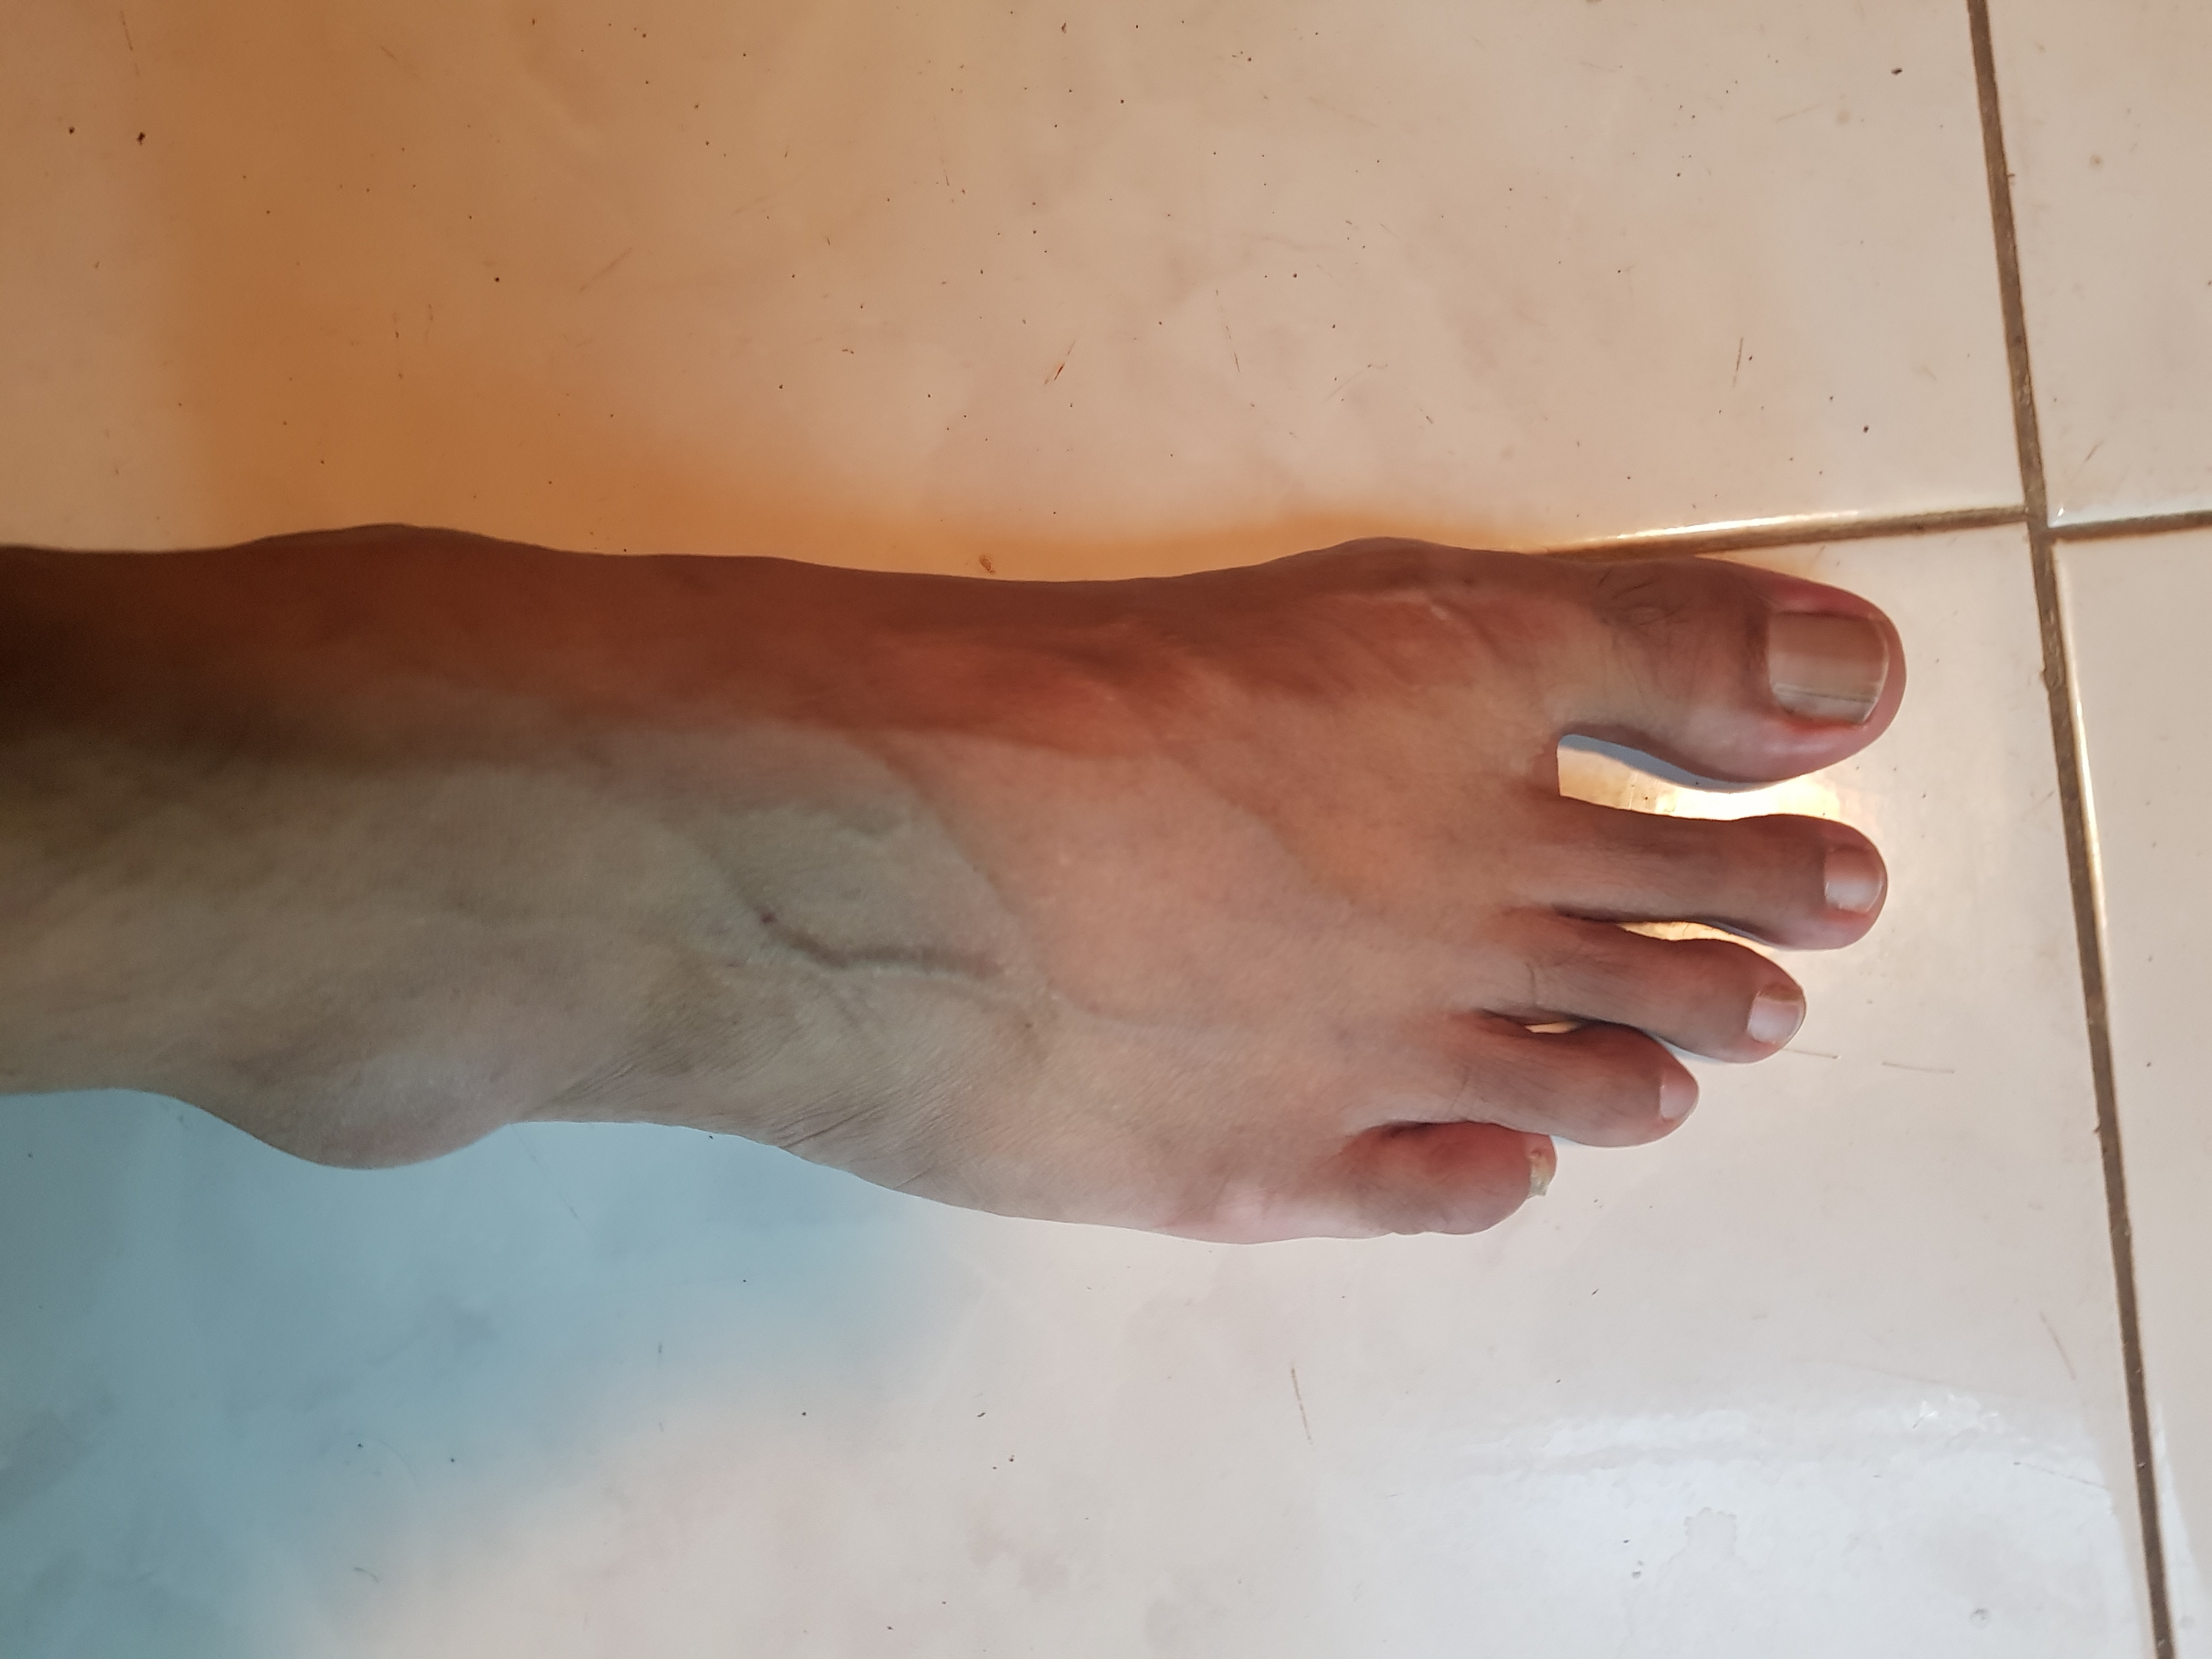feet: (28, 469, 1940, 1253)
